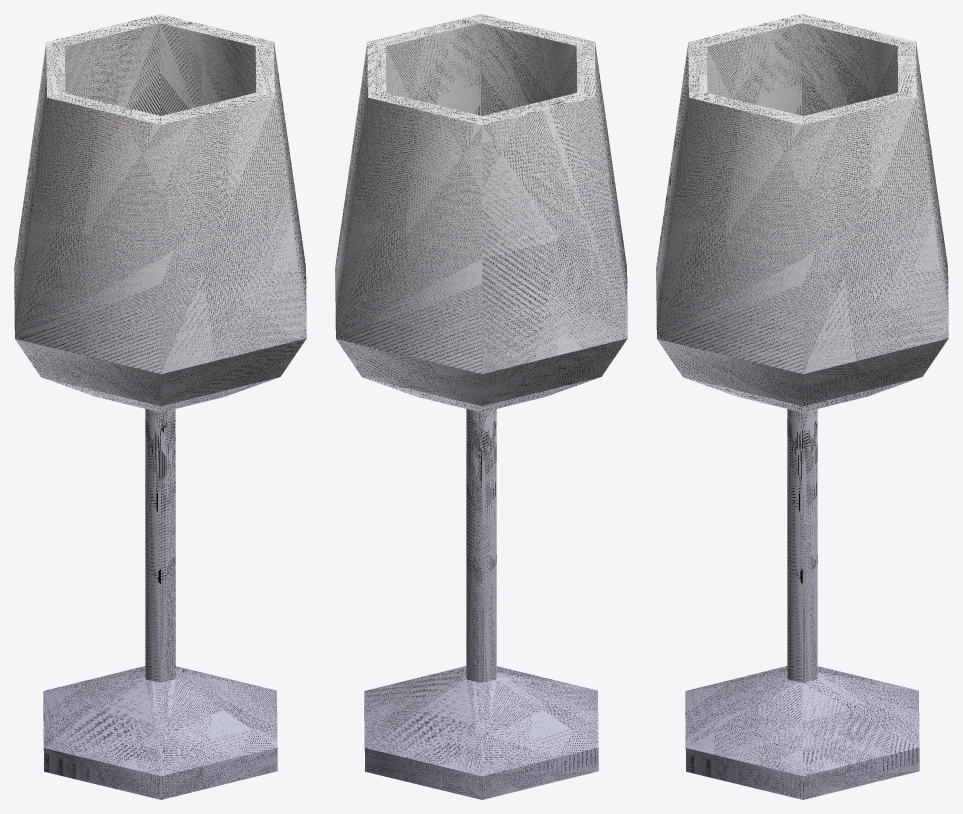
File: glass-wine.glb
3 views of the same model, side by side, from view 1: azimuth 30°, elevation 25°; view 2: azimuth 150°, elevation 25°; view 3: azimuth 270°, elevation 25° (orthographic).
Parts seen in each view (by area): view 1: glass-wine; view 2: glass-wine; view 3: glass-wine.
Boxes of the visible parts, x1,y1,x2,y2 form: glass-wine: (14,14,306,799); glass-wine: (335,14,627,799); glass-wine: (656,14,948,799).
Bounding box in the file's own units: 0.2268 × 0.4999 × 0.1969.
Materials: 1 (1 with a texture image).
